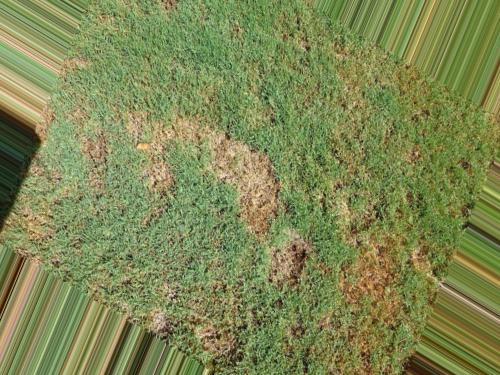patch: (176, 126, 293, 214), (324, 241, 406, 299), (261, 240, 328, 291)
